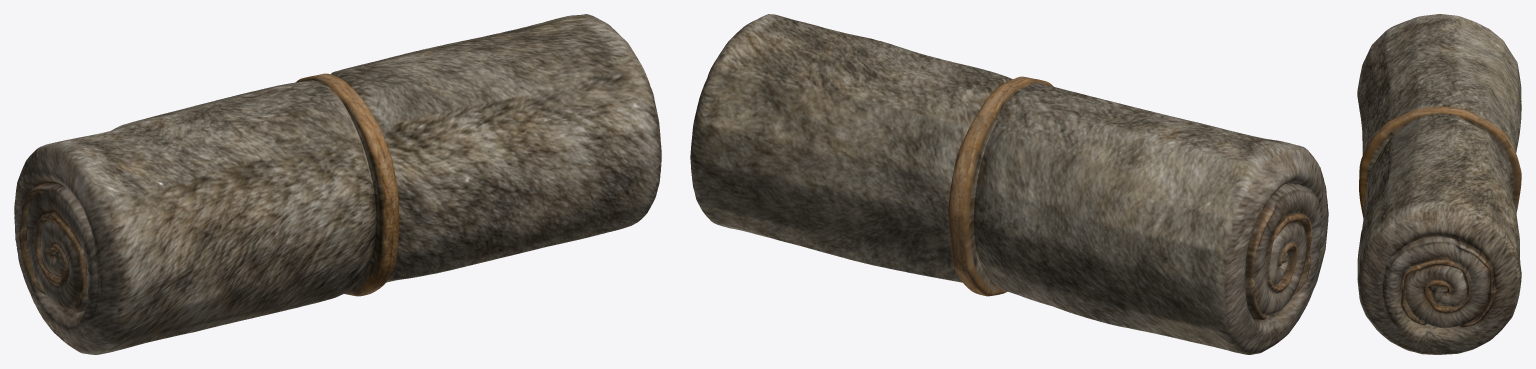
Rendered from wolf_pelt.glb.
The picture shows the model from 3 angles, left to right: view 1: azimuth 30°, elevation 25°; view 2: azimuth 150°, elevation 25°; view 3: azimuth 270°, elevation 25°; orthographic projection. The views are drawn at different scales.
Visible parts, largest first — view 1: geometry_0; view 2: geometry_0; view 3: geometry_0.
Part boxes in pixels (x1,y1,x2,y2): geometry_0: (14,14,661,354); geometry_0: (690,14,1328,354); geometry_0: (1357,14,1521,354).
Bounding box in the file's own units: 1 × 0.3404 × 0.3355.
Materials: 1 (1 with a texture image).
